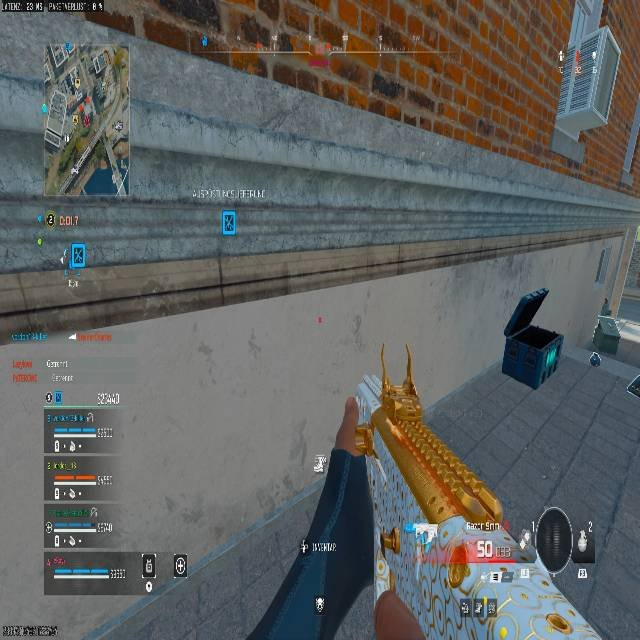head: (19, 0, 637, 636)
